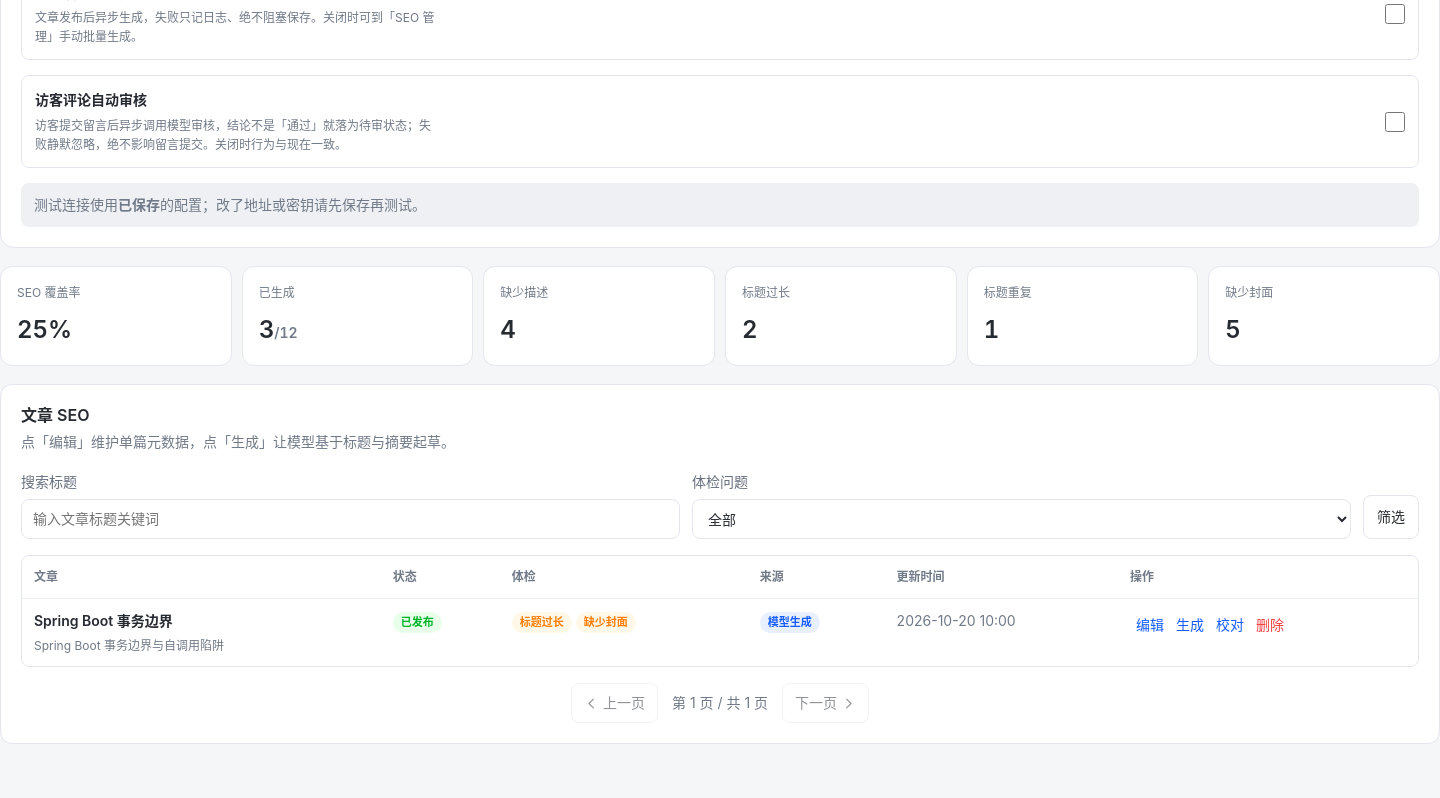
Test: SEO admin page › keeps only the newest list response when the filters are applied twice
(page scrolled)
Type "Spring" into the search field labelled "搜索标题" at (350, 519), box [21, 499, 680, 539]
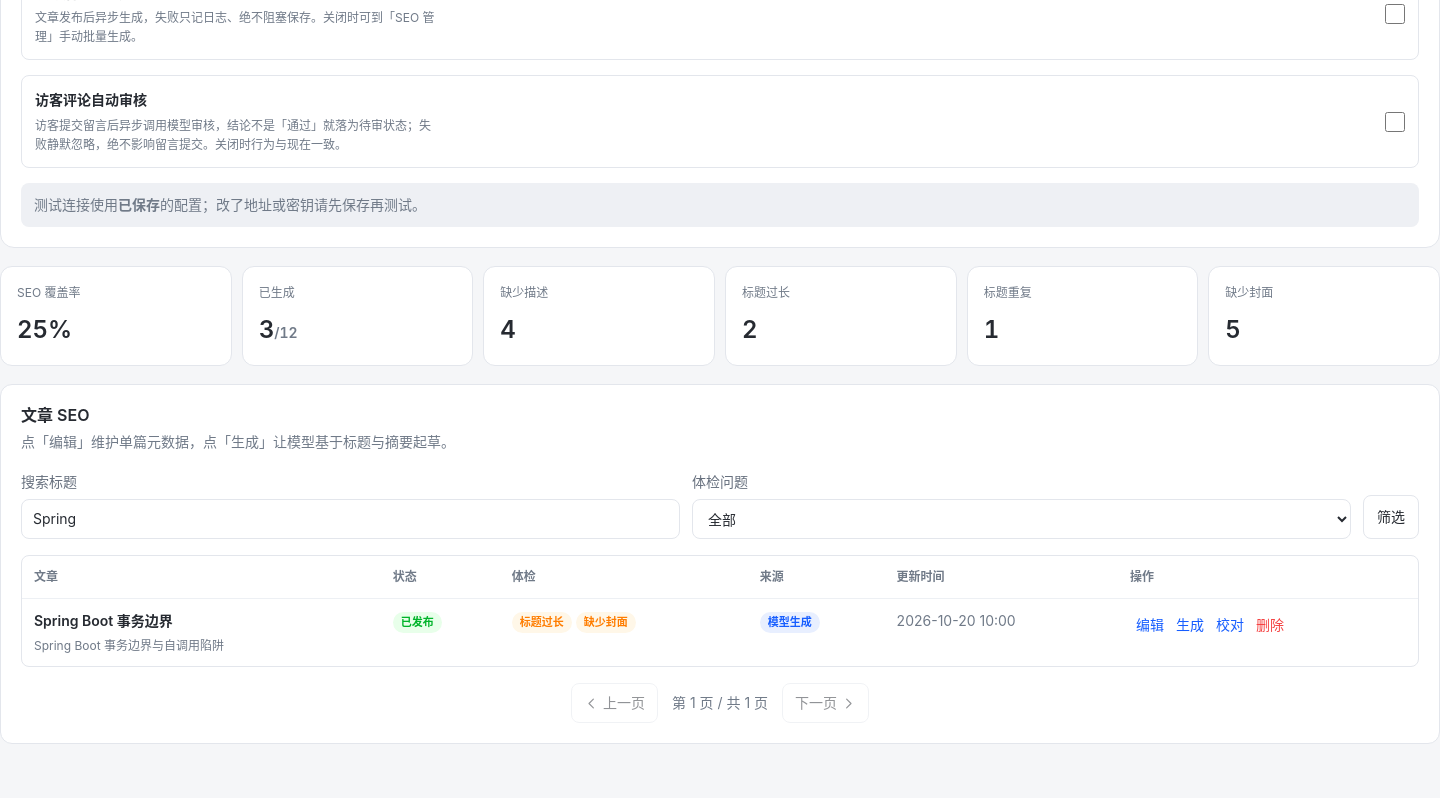
Press Enter in the search field labelled "搜索标题", box [21, 499, 680, 539]
Press Enter in the search field labelled "搜索标题", box [21, 499, 680, 539]
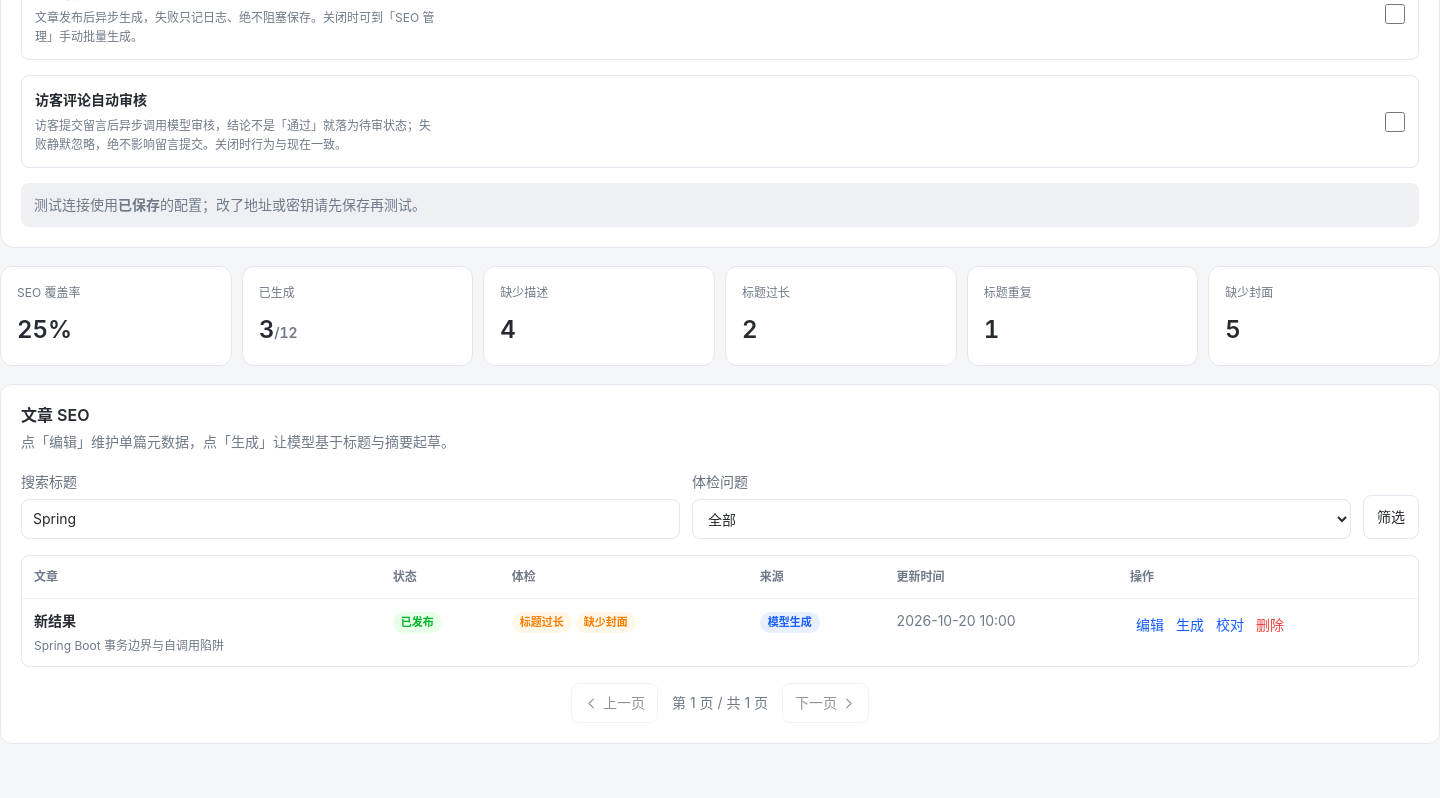
Now the text "新结果" is shown, box [34, 612, 76, 628]
